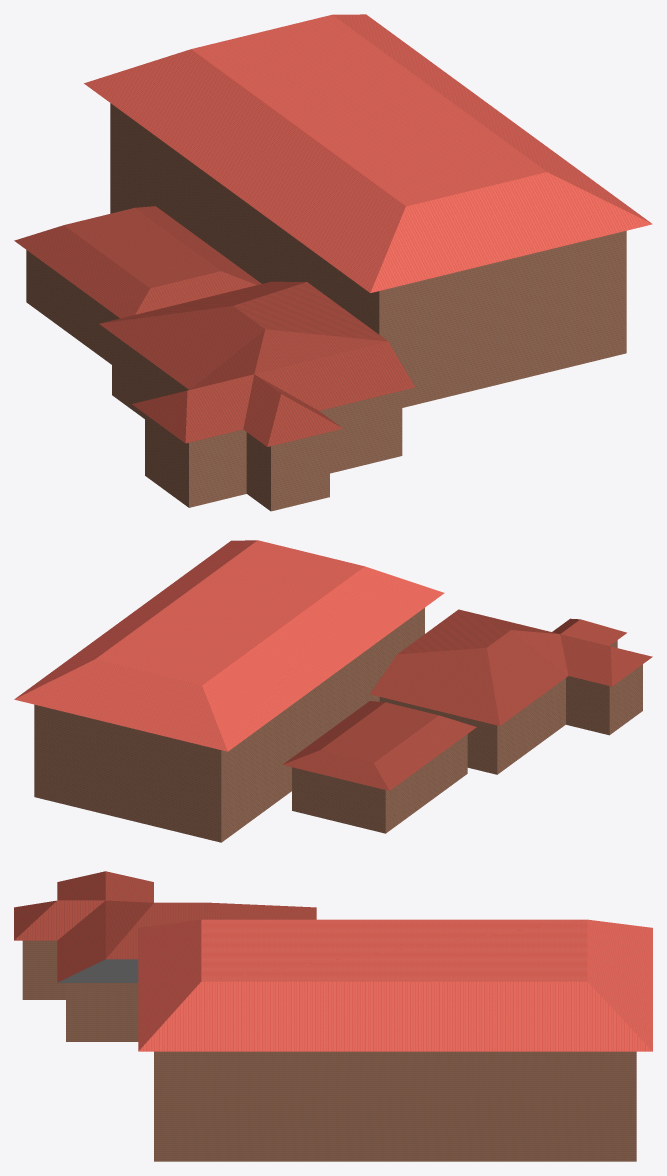
The model's file is yyg.gltf.
3 renders of one model, top to bottom at view 1: azimuth 30°, elevation 25°; view 2: azimuth 150°, elevation 25°; view 3: azimuth 270°, elevation 25°, orthographic. The views are drawn at different scales.
Parts seen in each view (by area): view 1: root; view 2: root; view 3: root.
Part boxes in pixels (box(x1,y1,x2,y2)): root: box(14, 14, 652, 511); root: box(14, 540, 652, 842); root: box(14, 871, 652, 1161).
Bounding box in the file's own units: 61.33 × 20 × 73.75.
Materials: 4 (3 with a texture image).
